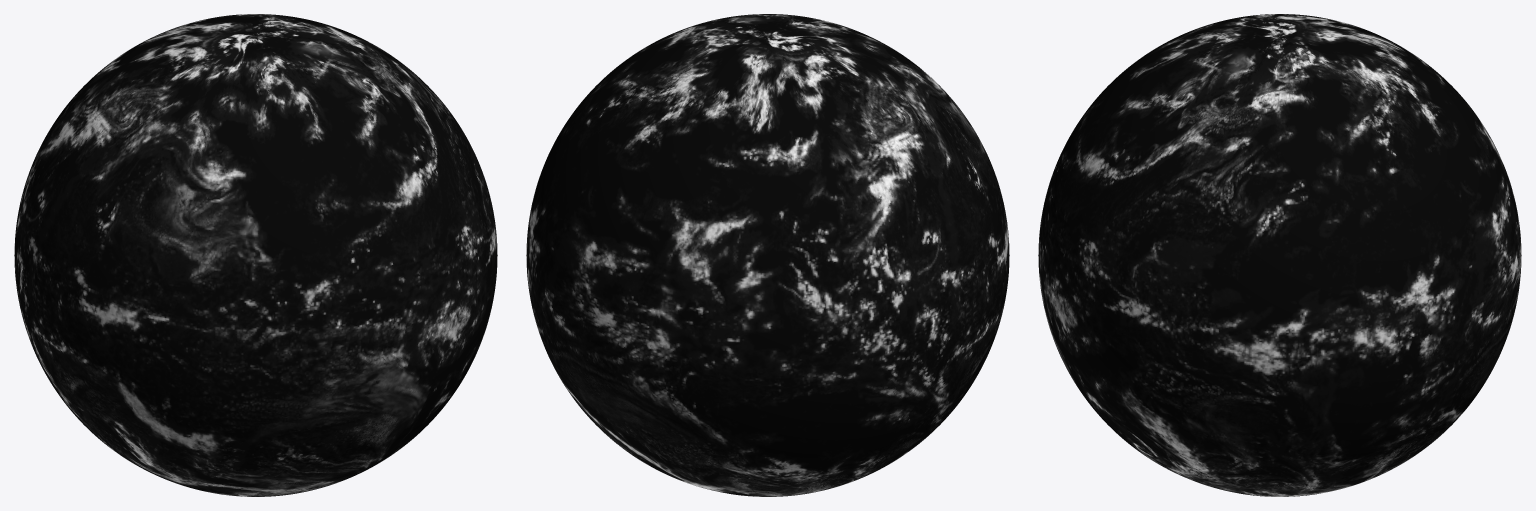
Rendered from earth.glb.
3 renders of one model, left to right at view 1: azimuth 30°, elevation 25°; view 2: azimuth 150°, elevation 25°; view 3: azimuth 270°, elevation 25°, orthographic.
Visible parts, largest first — view 1: Clouds; view 2: Clouds; view 3: Clouds.
Part boxes in pixels (box(x1,y1,x2,y2)): Clouds: box(14, 14, 497, 496); Clouds: box(526, 14, 1009, 496); Clouds: box(1038, 14, 1521, 496).
Size of the model in its own units: 2.02 by 2.02 by 2.02.
2 materials, 2 textured.
